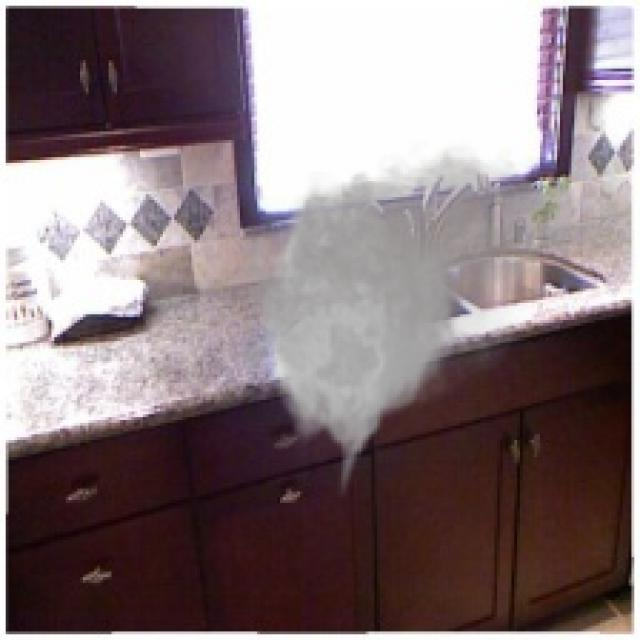smoke: (217, 134, 589, 500)
